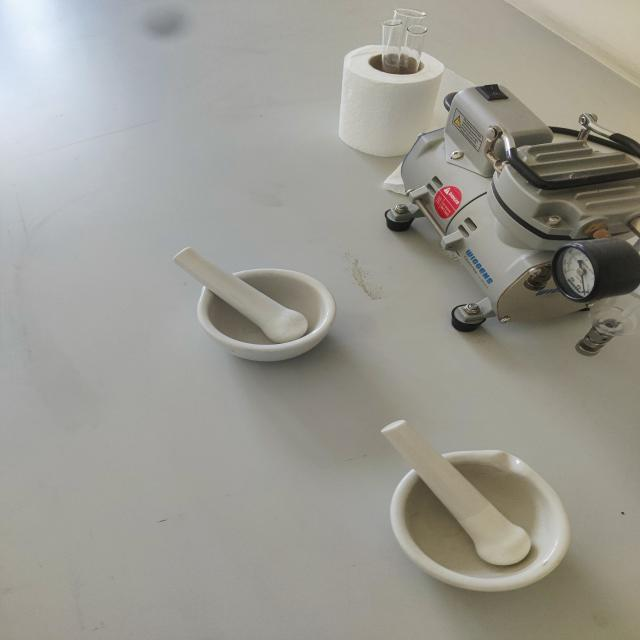Porcelain_Mortar Pestle: (359, 391, 594, 615), (150, 225, 350, 378)
